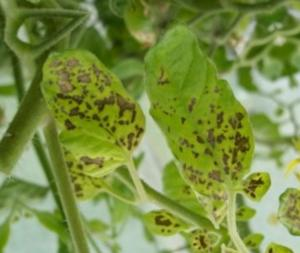Tomato leaf bacterial spot: (119, 0, 299, 226), (27, 21, 164, 186)
